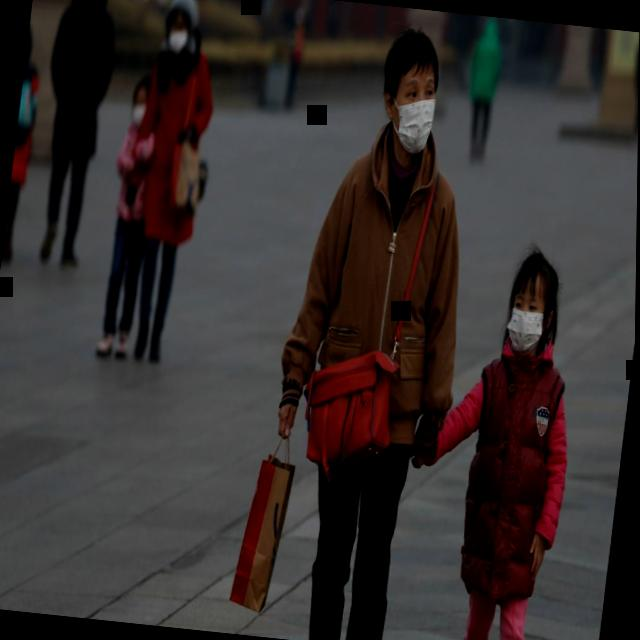Mask: (370, 20, 453, 168), (497, 240, 568, 364), (156, 0, 203, 60), (123, 68, 159, 130)
